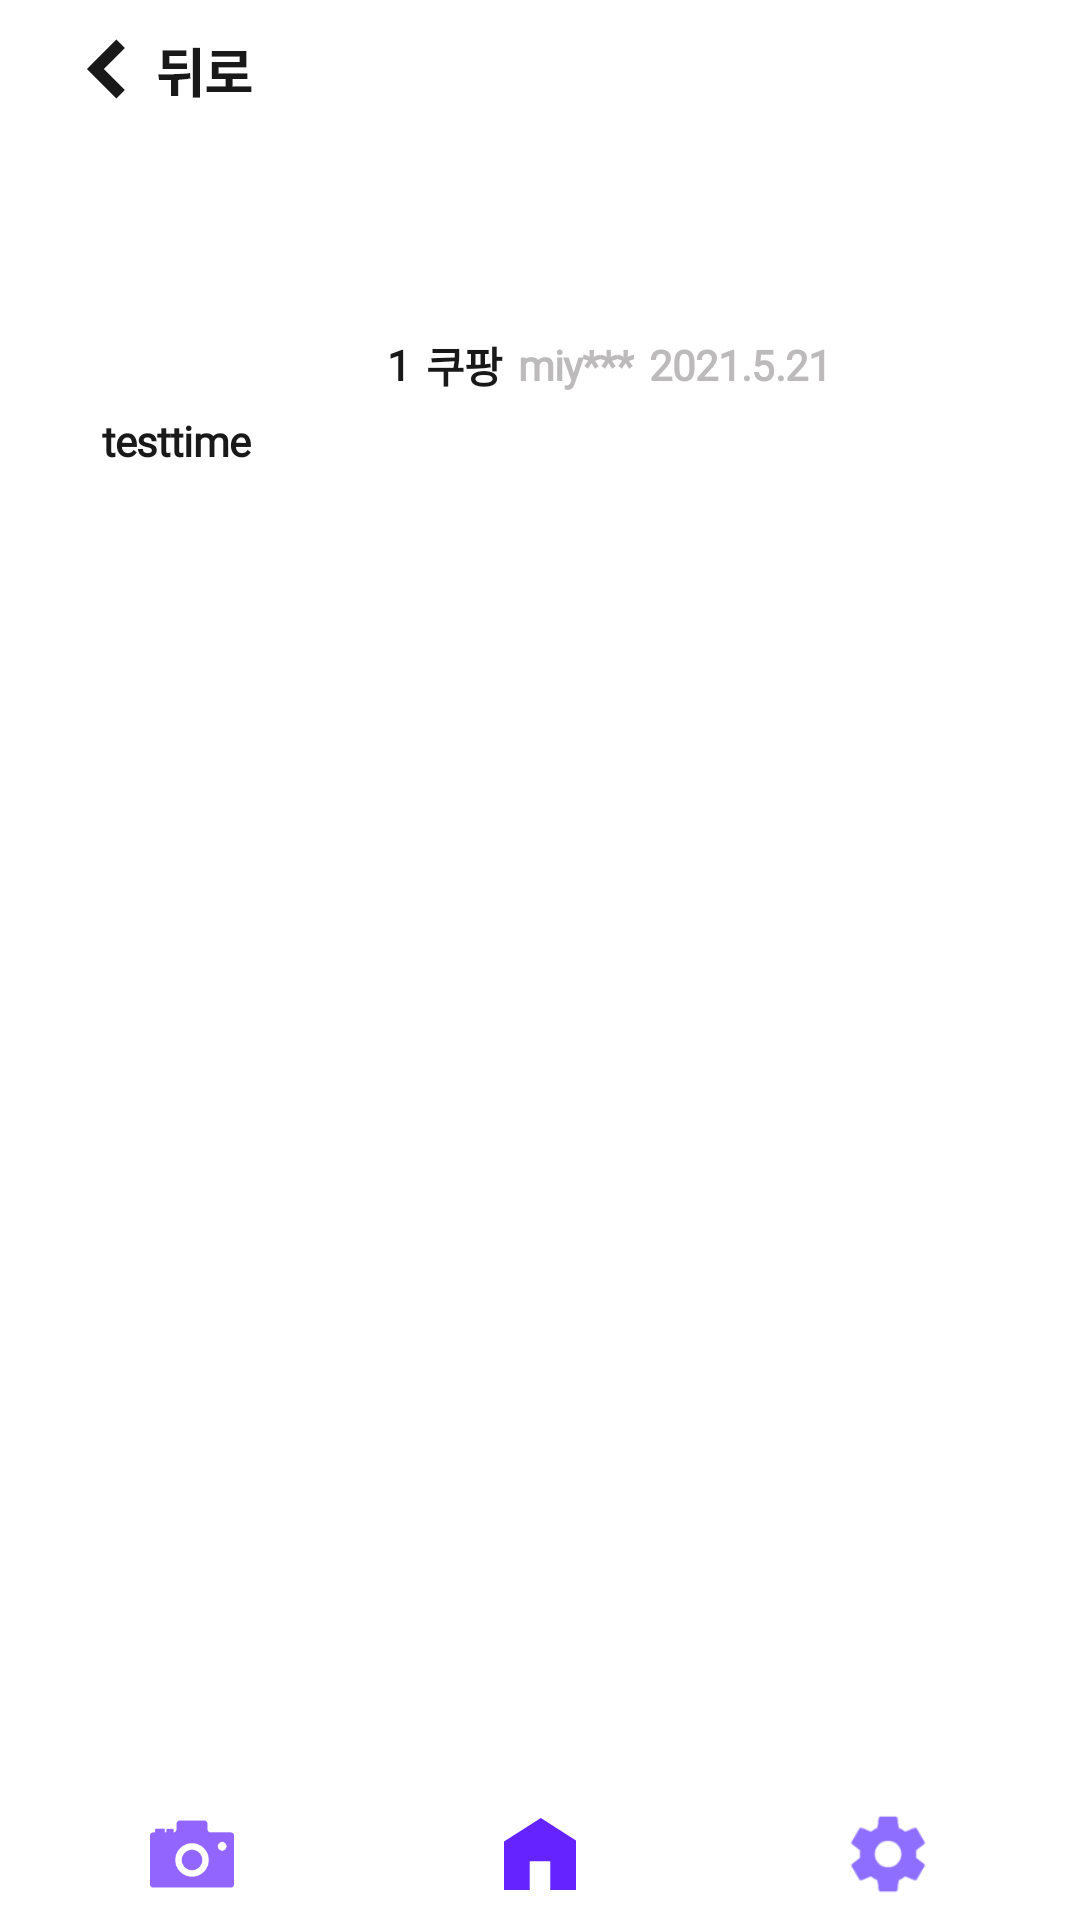

Screen size 1080px×1920px. Icon name, then its box in pixels as (x1, y1, x2, y2):
camera: (150, 1820, 234, 1888)
HOME: (504, 1818, 576, 1890)
